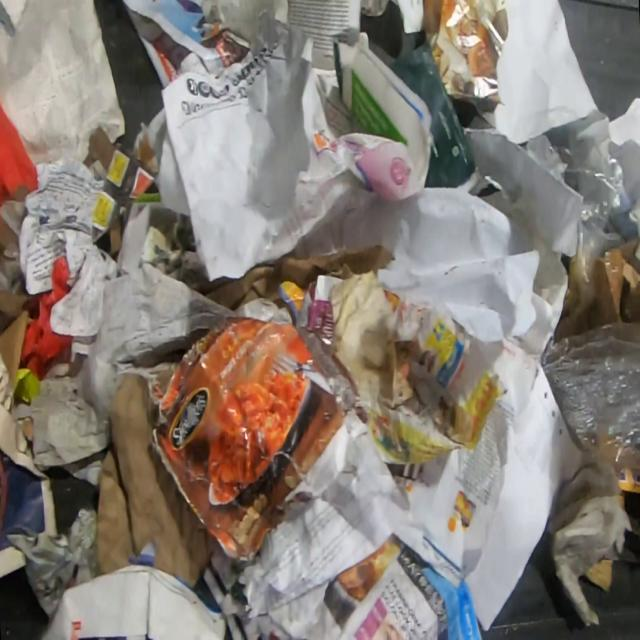cardboard: (145, 315, 358, 563), (93, 372, 218, 591), (384, 40, 482, 194), (81, 125, 158, 253), (552, 235, 640, 342), (0, 286, 32, 395)
soft_plastic: (540, 317, 640, 485), (541, 110, 640, 260)
